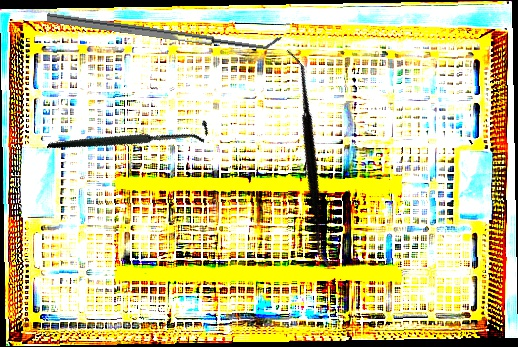Hook Surgical: (46, 65, 213, 206)
Spatula Surgical: (205, 48, 413, 270), (46, 4, 282, 55)
